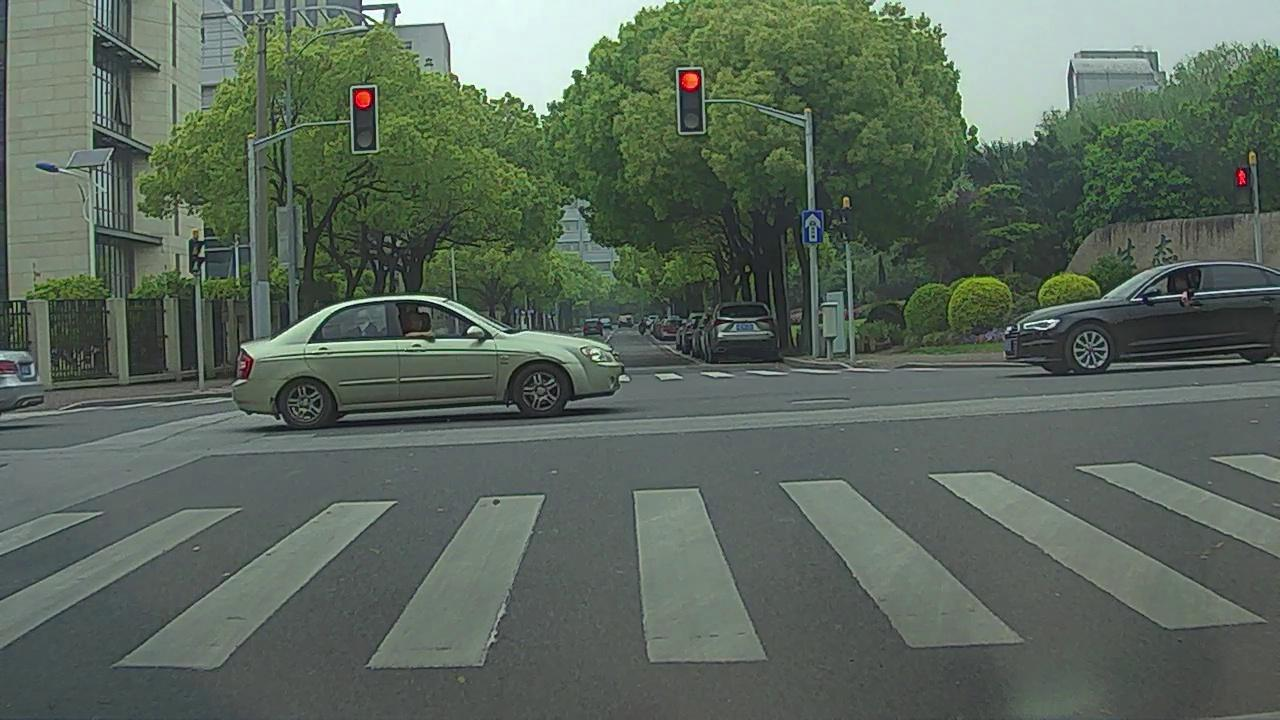traffic_light: (351, 87, 377, 152), (681, 68, 704, 134)
